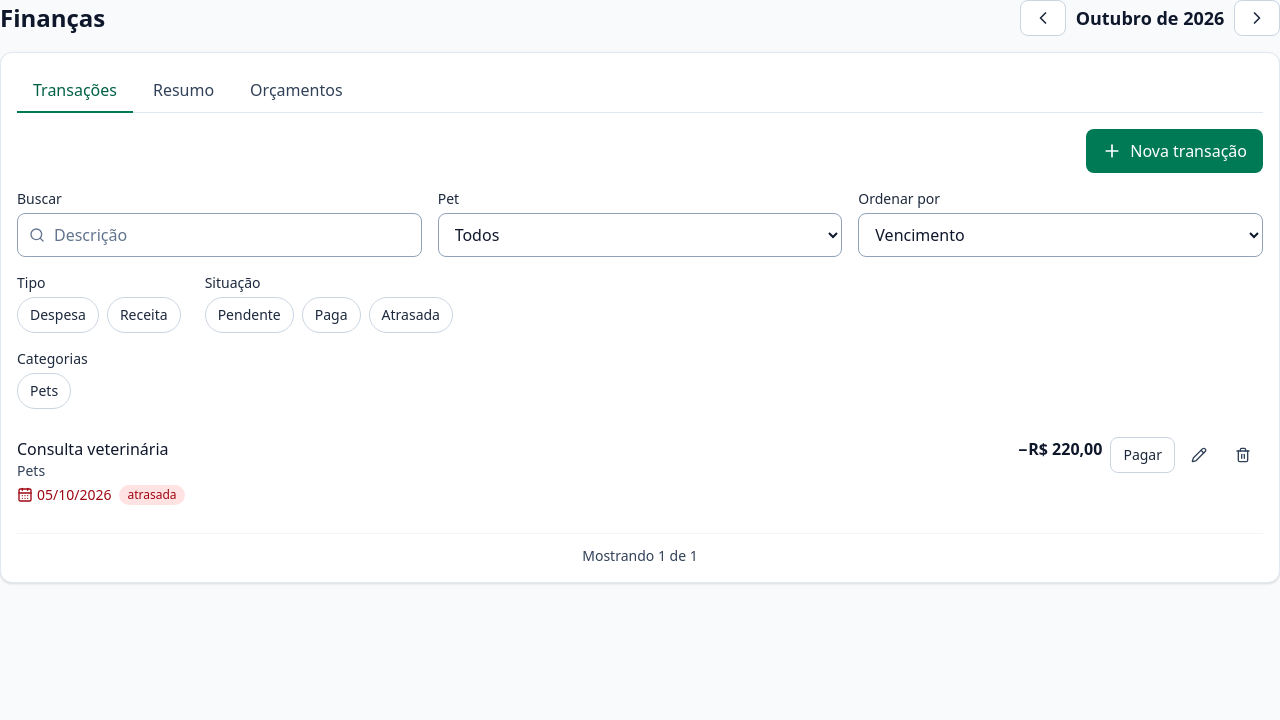
Scenario: FinancePage › creating a transaction sends the amount as a decimal string
Click the button "Nova transação" at (1175, 151), box [1086, 129, 1263, 173]
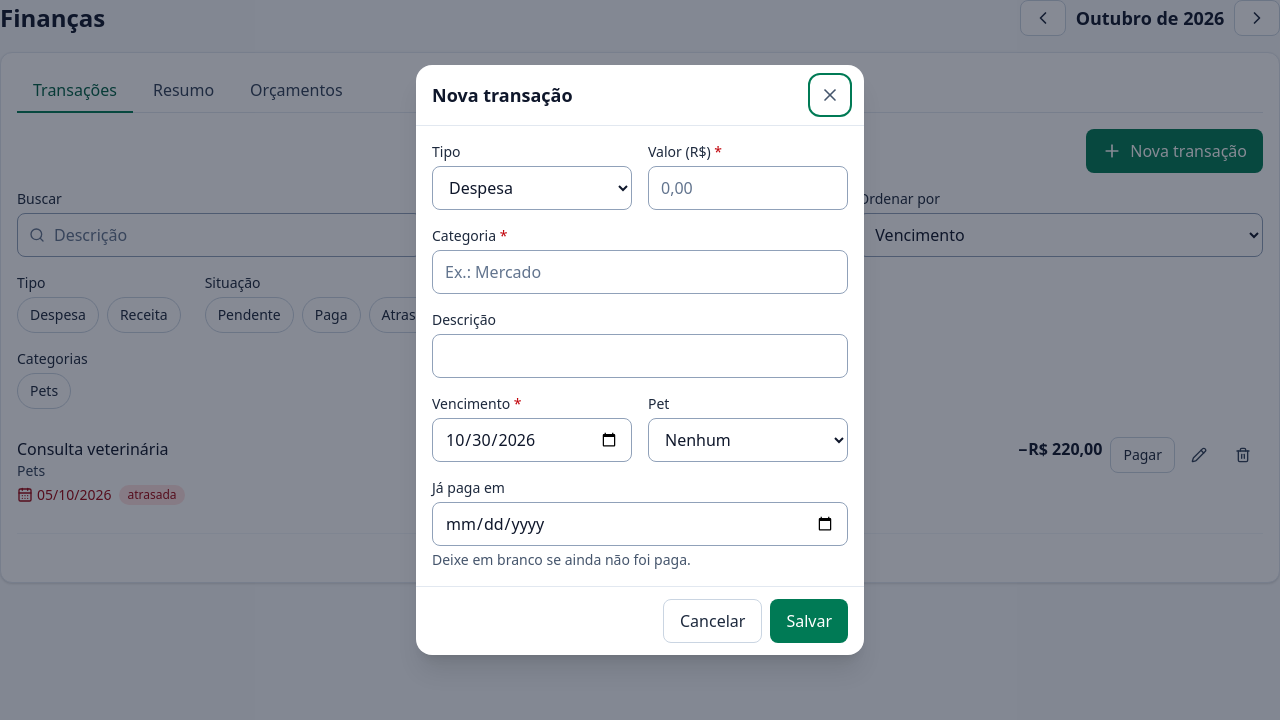
Type "12,9" into the field labelled "Valor (R$) *" at (748, 188), box [648, 166, 848, 210]
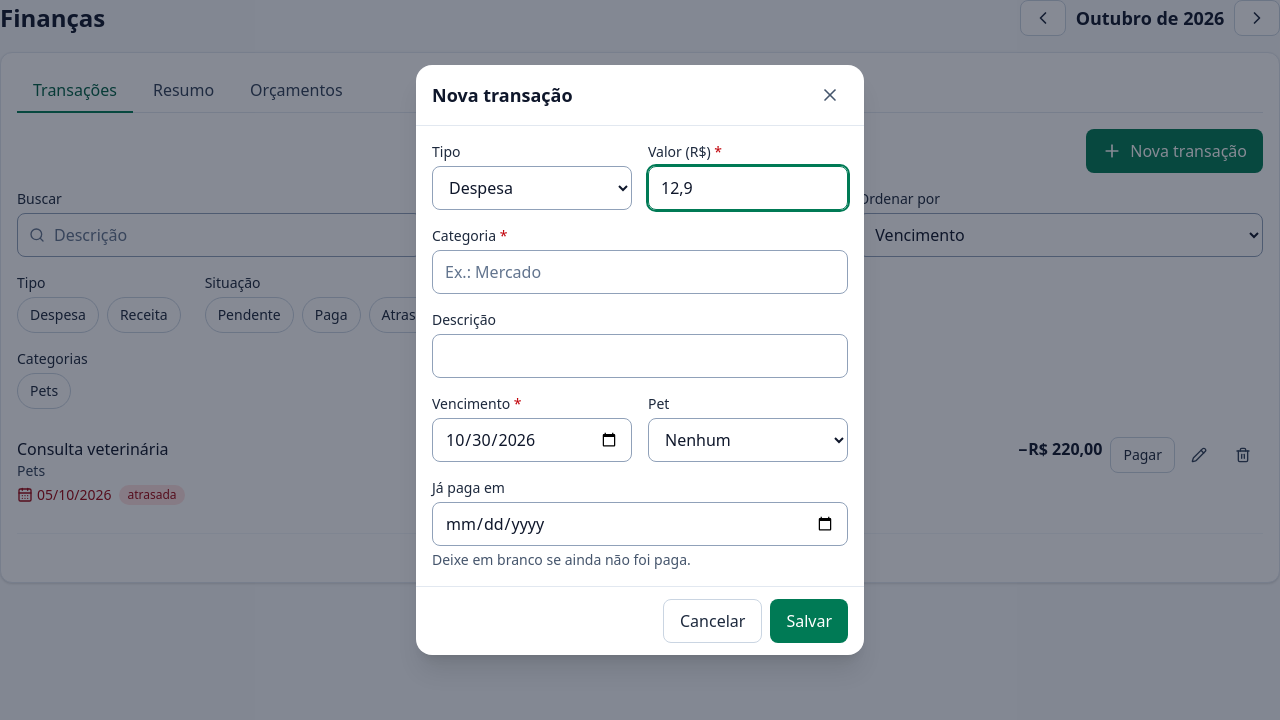
Type "Padaria" into the field labelled "Categoria *" at (640, 272), box [432, 250, 848, 294]
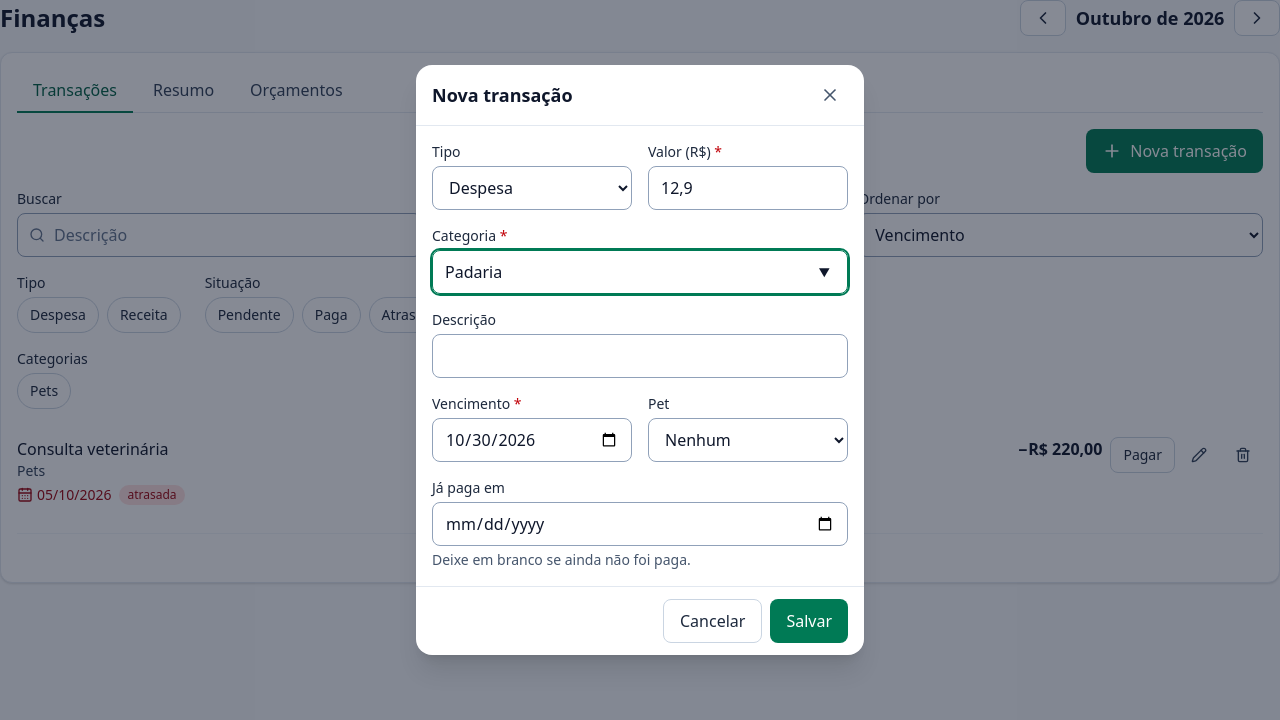
Click the button "Salvar" at (809, 621), box [770, 599, 848, 643]
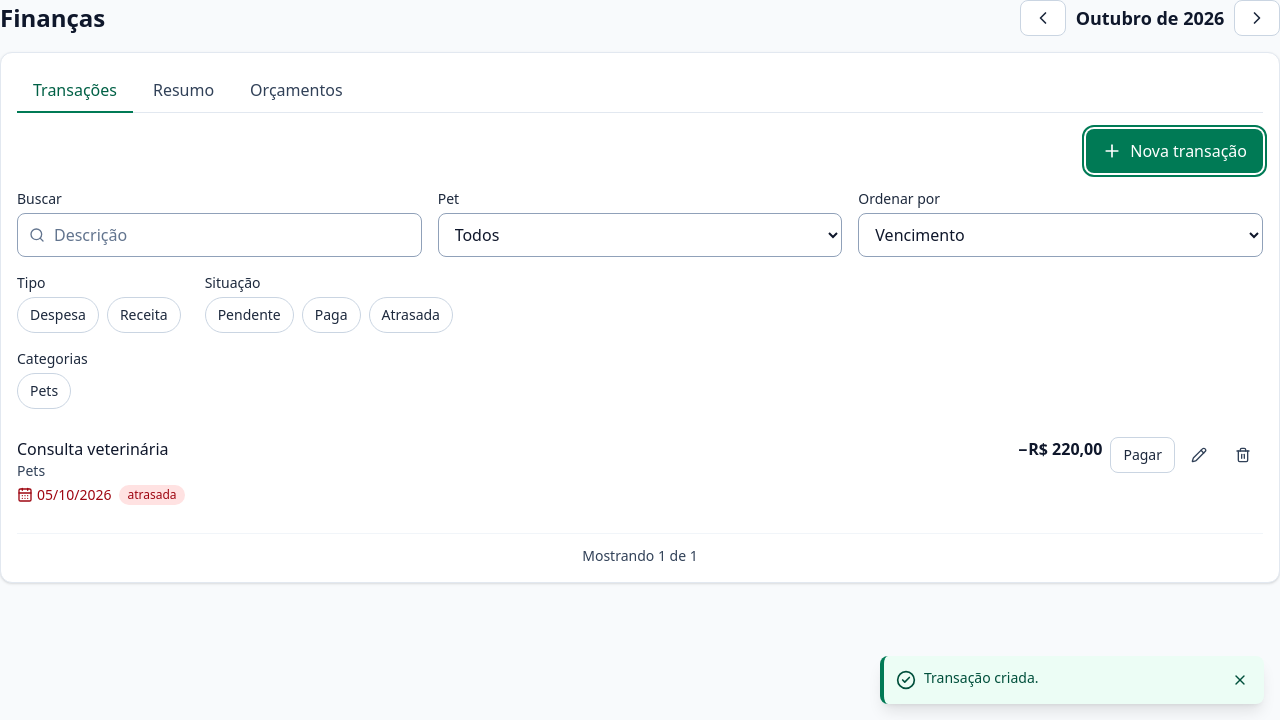
expect the text "Transação criada." is shown: met, box [924, 668, 1038, 687]
